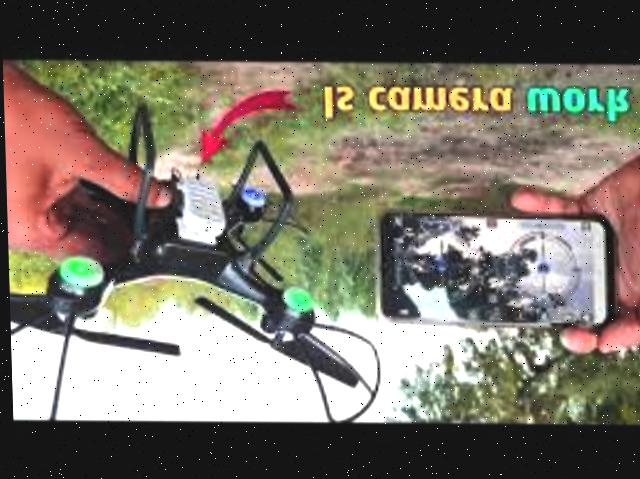drone: (3, 106, 374, 444)
